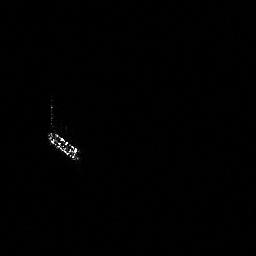ship: (44, 128, 82, 162)
